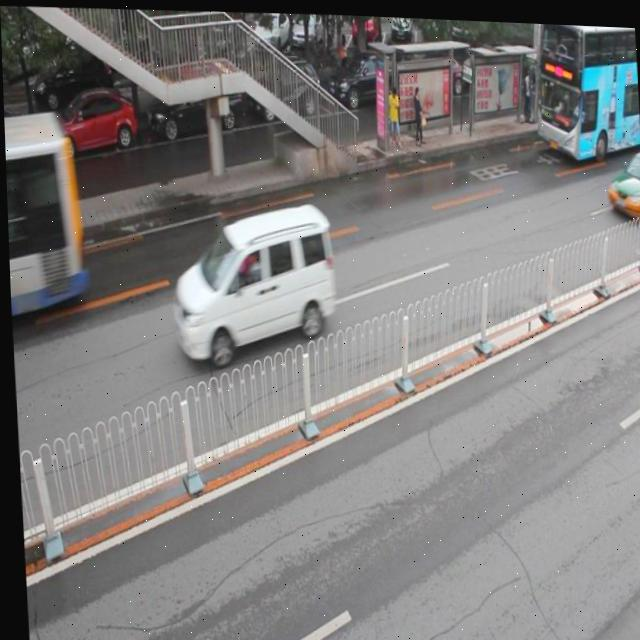car: (42, 86, 136, 163), (143, 75, 243, 147), (324, 47, 408, 119), (250, 54, 322, 121), (600, 138, 640, 218), (3, 109, 27, 168)
truck: (163, 192, 336, 367)
van: (3, 107, 86, 329), (529, 18, 640, 158)
